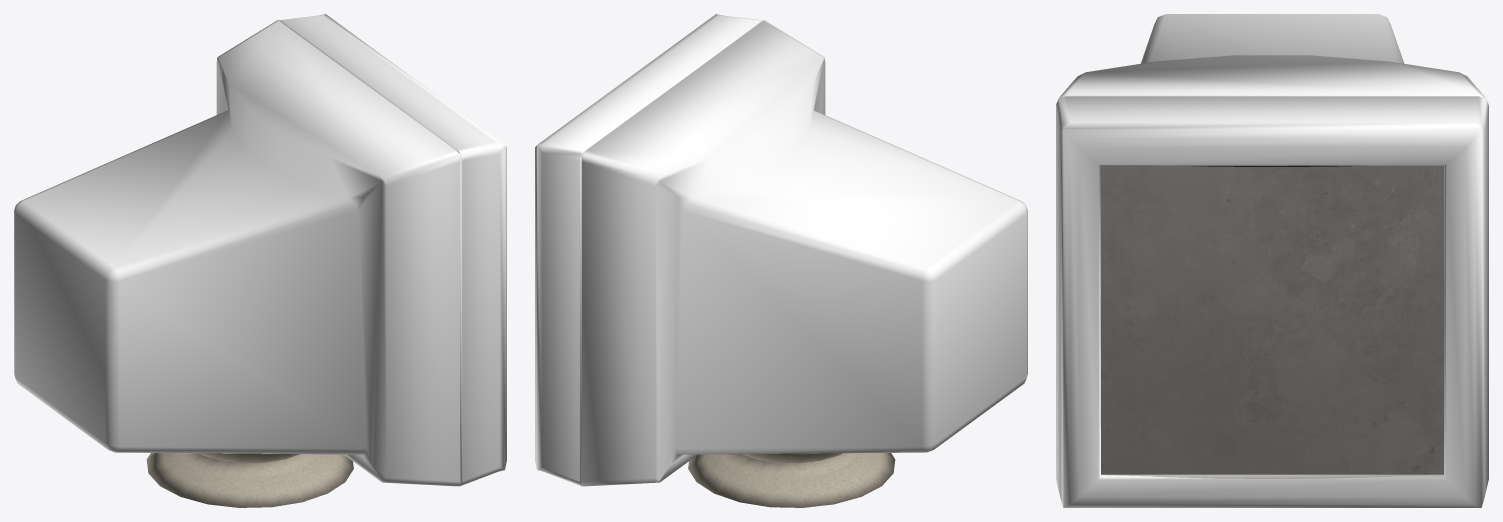
The model's file is Monitor2.glb.
3 renders of one model, left to right at view 1: azimuth 30°, elevation 25°; view 2: azimuth 150°, elevation 25°; view 3: azimuth 270°, elevation 25°, orthographic. The views are drawn at different scales.
Visible parts, largest first — view 1: Cube, Circle; view 2: Cube, Circle; view 3: Plane, Plane.001, Cube.
Boxes of the visible parts, x1,y1,x2,y2 form: Cube: (14,14,506,486); Circle: (146,453,353,507); Cube: (535,14,1027,486); Circle: (688,453,895,507); Plane: (1100,165,1444,478); Plane.001: (1101,166,1443,474); Cube: (1056,14,1488,507).
Bounding box in the file's own units: 1.17 × 1.04 × 0.997.
5 materials, 3 textured.
